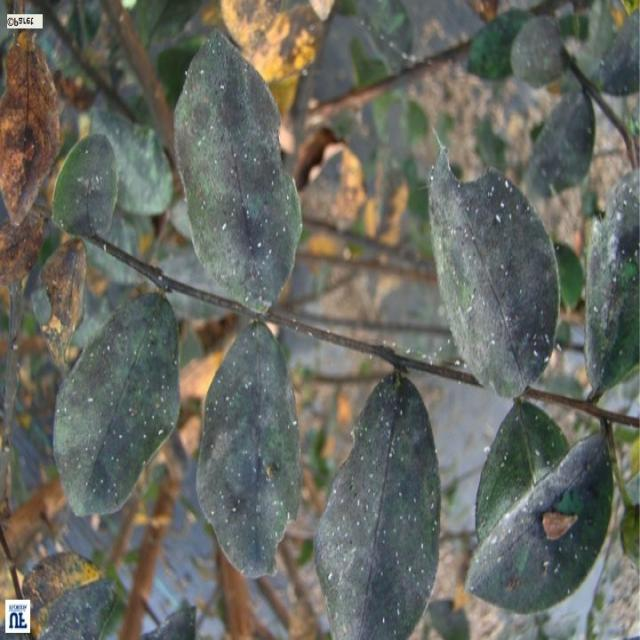Sooty Mold: (312, 368, 442, 638)
